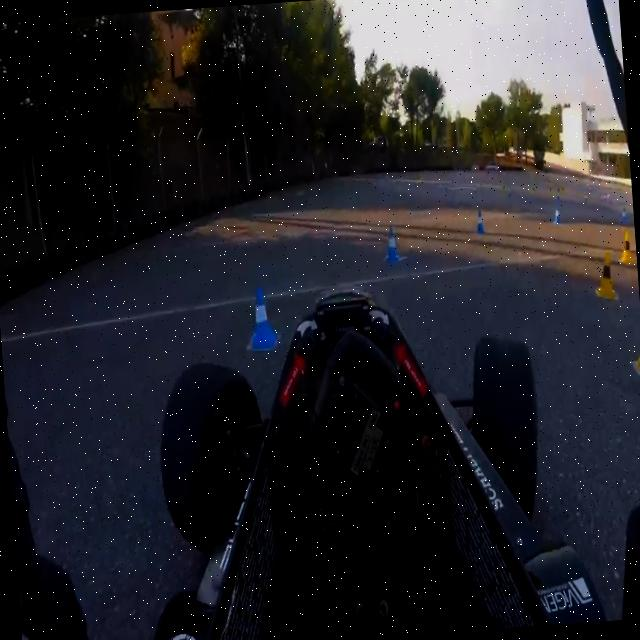blue_cone: (242, 278, 280, 358), (382, 221, 399, 263), (552, 200, 563, 230), (474, 204, 484, 236), (619, 205, 627, 225)
yellow_cone: (592, 250, 616, 302), (629, 314, 640, 378), (618, 230, 636, 266)
